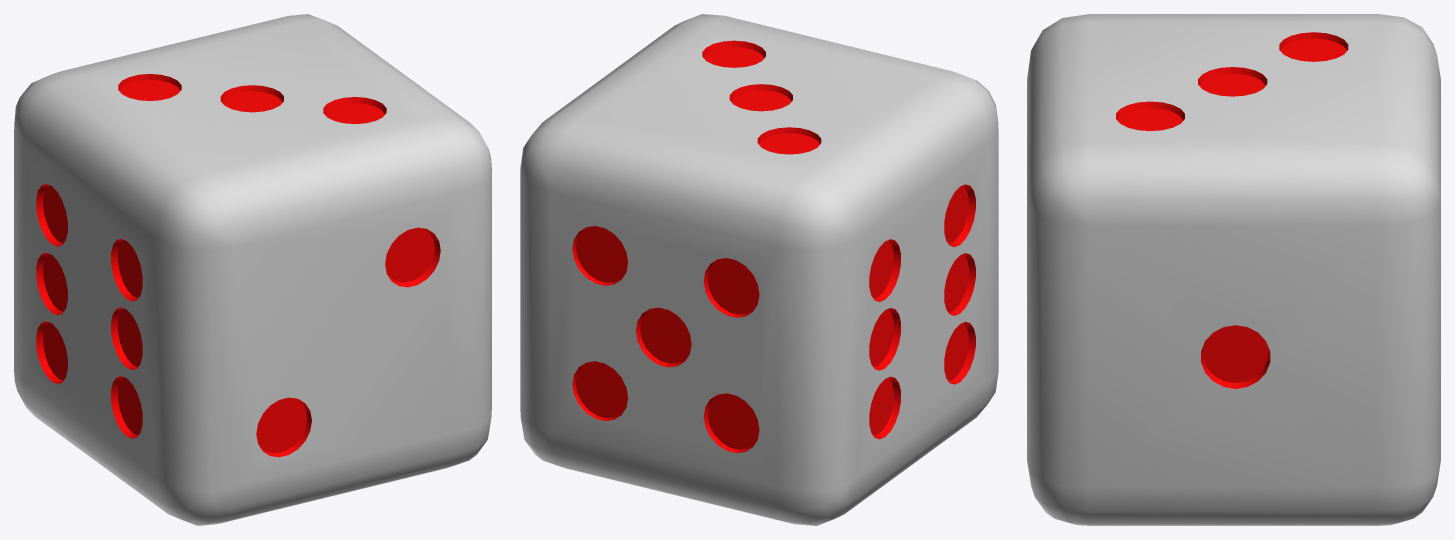
File: Dice.FBX
3 renders of one model, left to right at view 1: azimuth 30°, elevation 25°; view 2: azimuth 150°, elevation 25°; view 3: azimuth 270°, elevation 25°, orthographic. The views are drawn at different scales.
Visible parts, largest first — view 1: Dice; view 2: Dice; view 3: Dice.
Boxes of the visible parts, x1,y1,x2,y2 form: Dice: (14, 14, 491, 525); Dice: (520, 14, 998, 525); Dice: (1027, 14, 1440, 525).
Bounding box in the file's own units: 2004 × 2017 × 2016.
